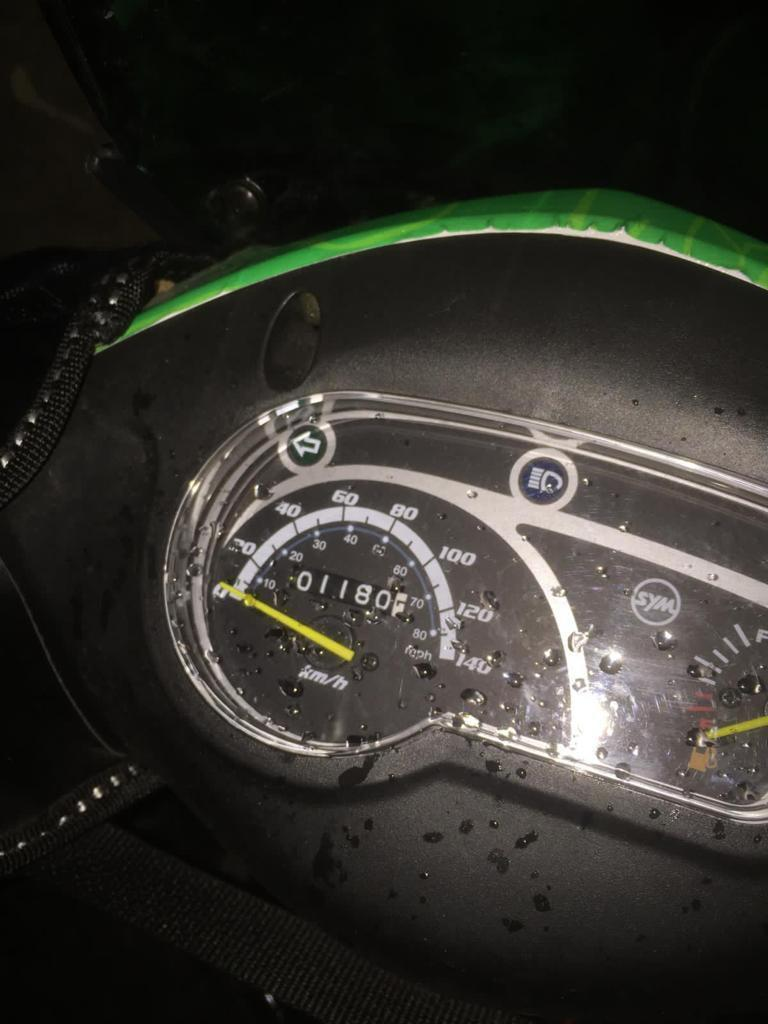0: (294, 569, 314, 590), (374, 587, 390, 609), (400, 566, 408, 576)
1: (318, 570, 330, 597), (336, 576, 348, 601)
6: (392, 565, 400, 577)
7: (394, 591, 407, 617)
8: (352, 581, 372, 607)
odometer: (287, 564, 410, 621)
